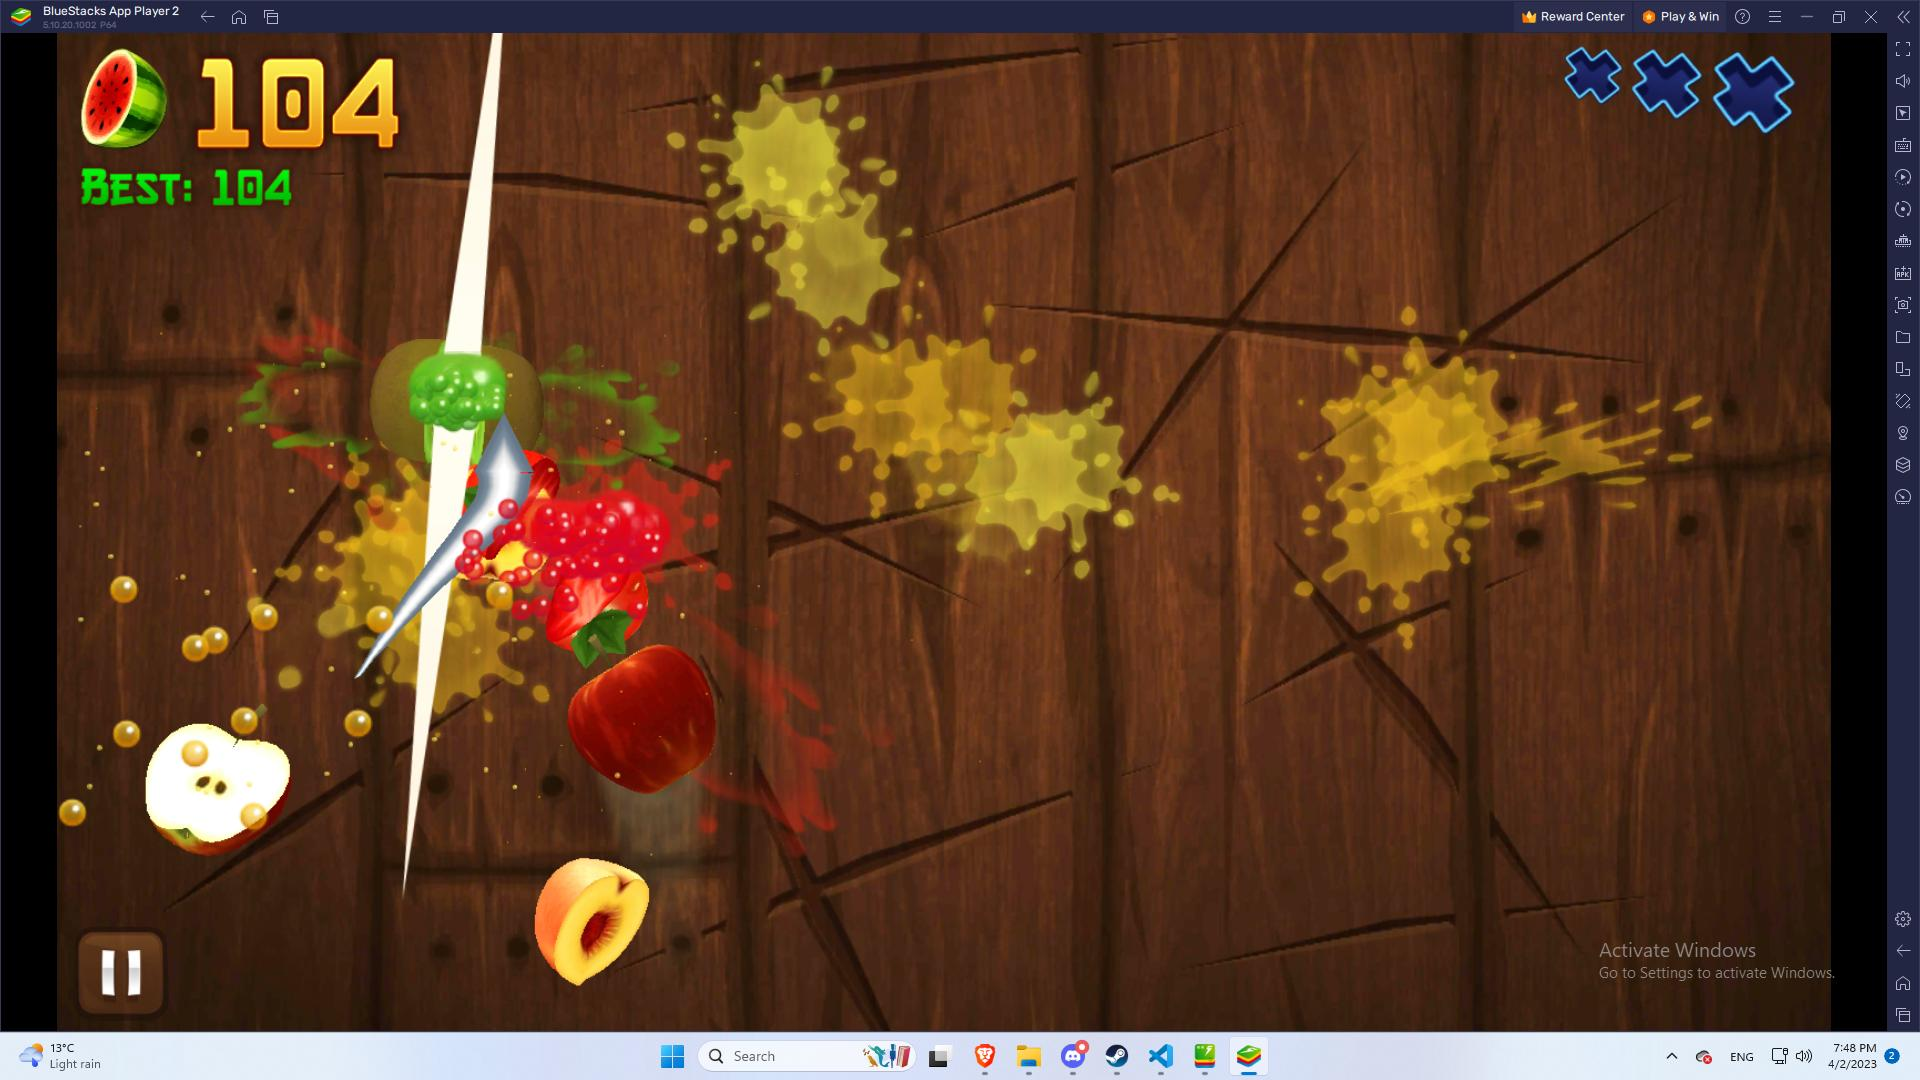fruit: (535, 612, 758, 819)
